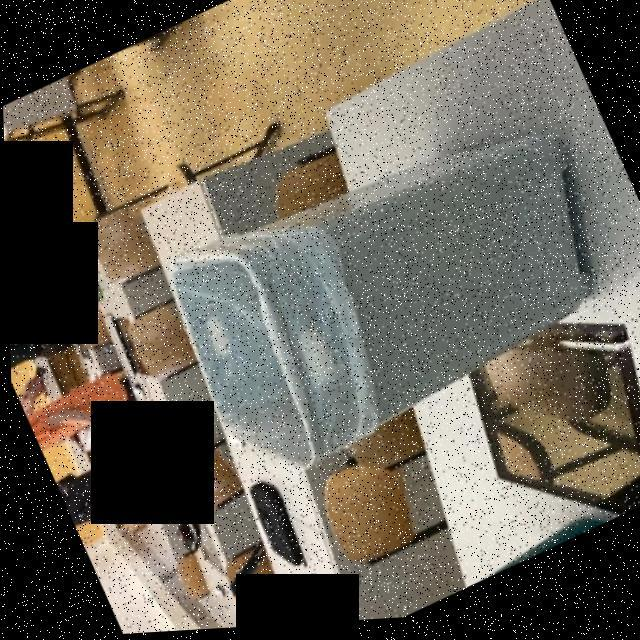bin: (106, 68, 640, 538)
